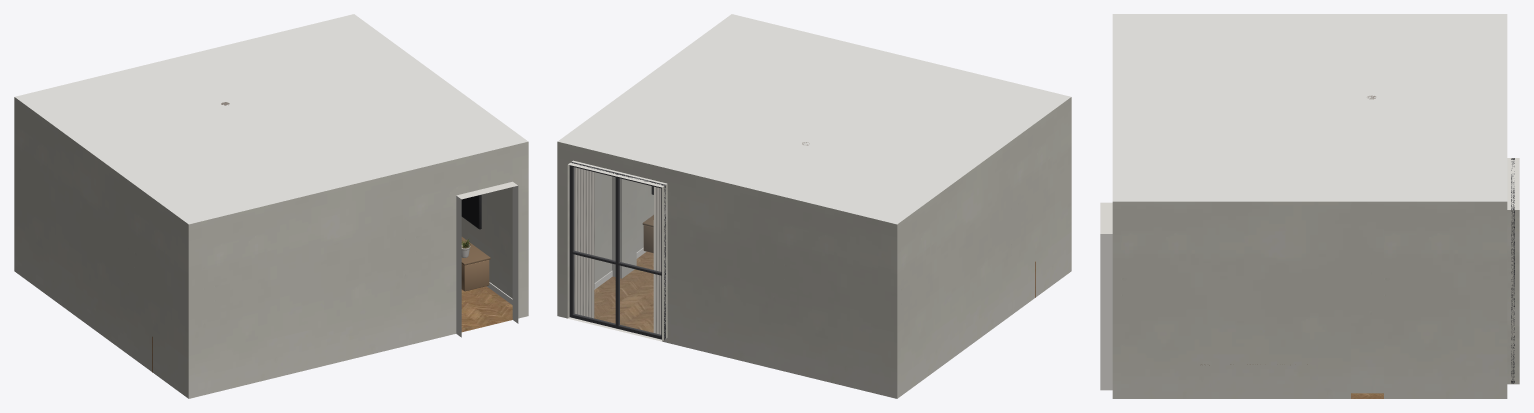
File: room-low.glb
3 views of the same model, side by side, from view 1: azimuth 30°, elevation 25°; view 2: azimuth 150°, elevation 25°; view 3: azimuth 270°, elevation 25° (orthographic). The views are drawn at different scales.
Parts seen in each view (by area): view 1: ROOM; view 2: ROOM, GLASS_window; view 3: ROOM.
Boxes of the visible parts, x1,y1,x2,y2 form: ROOM: (14,14,528,398); ROOM: (557,14,1071,398); GLASS_window: (573,167,660,334); ROOM: (1100,14,1519,398).
Size of the model in its own units: 5.4 by 2.65 by 5.1.
Materials: 30 (12 with a texture image).
